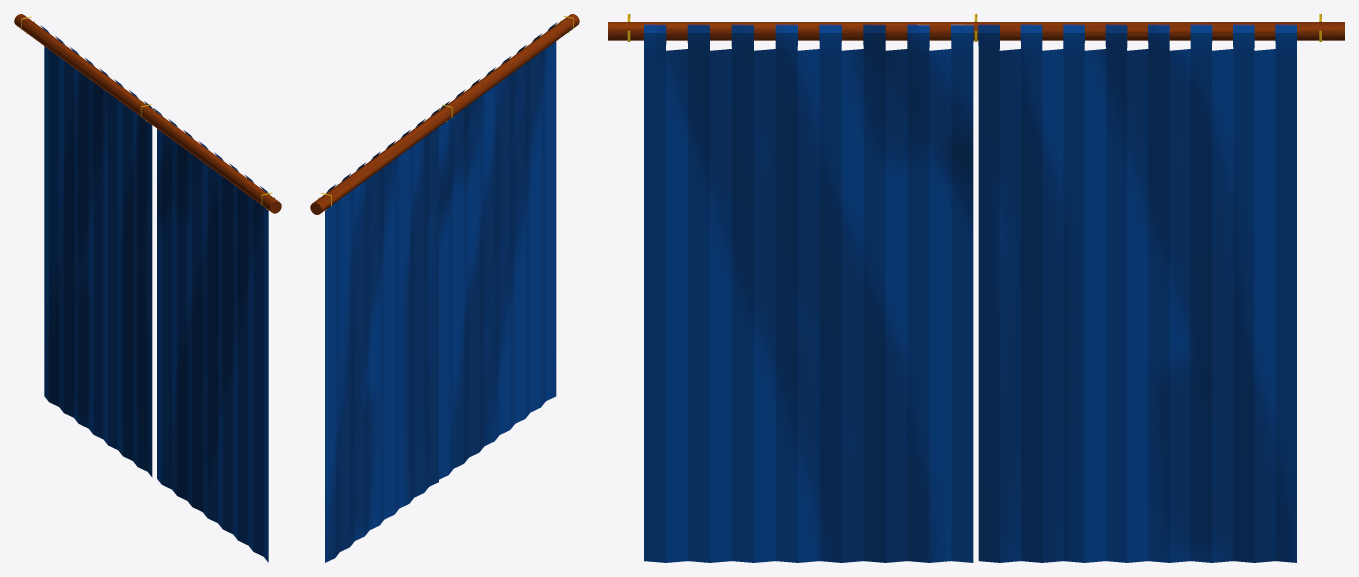
File: curtains.obj
3 renders of one model, left to right at view 1: azimuth 30°, elevation 25°; view 2: azimuth 150°, elevation 25°; view 3: azimuth 270°, elevation 25°, orthographic. The views are drawn at different scales.
Parts seen in each view (by area): view 1: Cortina; view 2: Cortina; view 3: Cortina.
Boxes of the visible parts, x1,y1,x2,y2 form: Cortina: (14,14,281,562); Cortina: (310,14,579,562); Cortina: (608,14,1344,562).
Size of the model in its own units: 0.6124 by 14.88 by 18.45.
